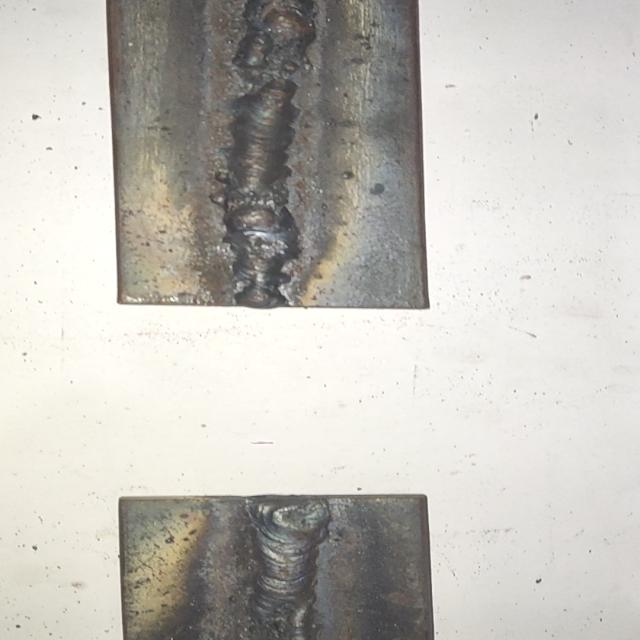Bad Weld: (224, 0, 314, 302)
Defect: (215, 0, 316, 107), (200, 187, 319, 261)
Good Weld: (251, 499, 325, 640)
